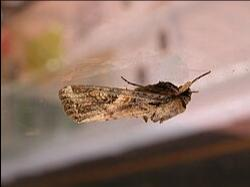army worm adult: (58, 70, 214, 129)
